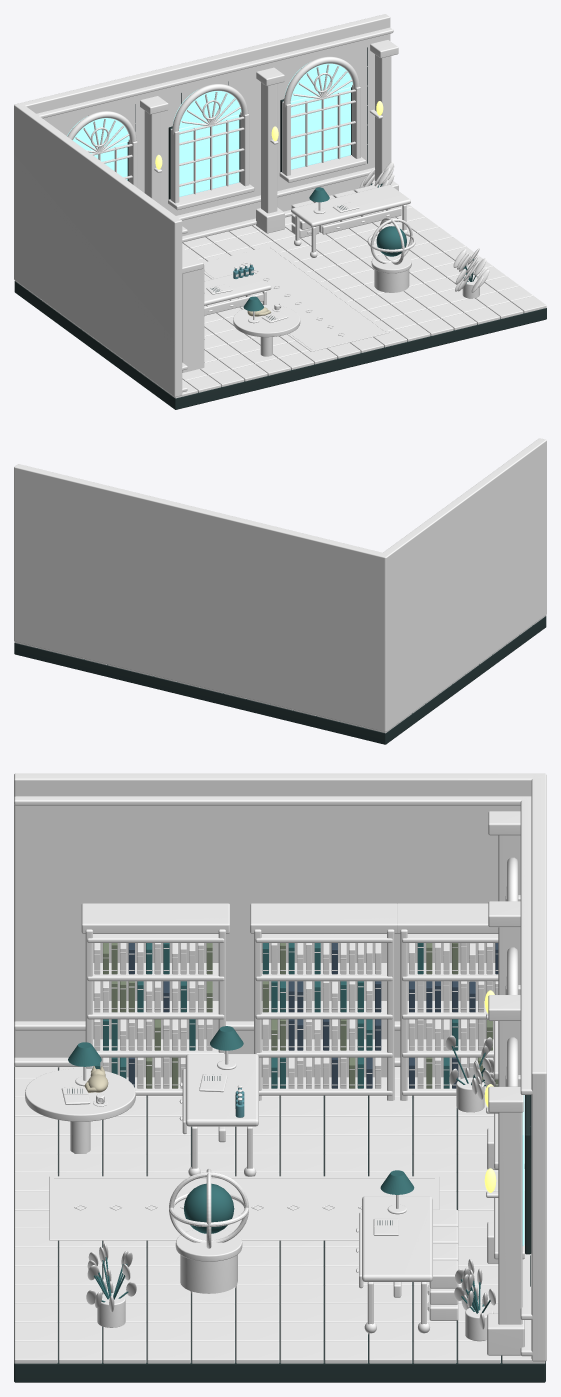
The model's file is hall.glb.
3 renders of one model, top to bottom at view 1: azimuth 30°, elevation 25°; view 2: azimuth 150°, elevation 25°; view 3: azimuth 270°, elevation 25°, orthographic. The views are drawn at different scales.
Visible parts, largest first — view 1: Static_5_Salt worn limestone, Static_6_Ivory carved stone, Static_7_Mist beyond windows, Static_16_Carpet, Static_10_Polished wood edge, Static_0_Ink, Static_3_Tile 00_04, Static_8_Aged brass, Static_4_Tile 01_10, Static_1_Tile 00_00, Static_2_Tile 00_01, Static_9_Walnut grain (+2 smaller); view 2: Static_5_Salt worn limestone, Static_0_Ink; view 3: Static_5_Salt worn limestone, Static_10_Polished wood edge, Static_6_Ivory carved stone, Static_4_Tile 01_10, Static_2_Tile 00_01, Static_1_Tile 00_00, Static_16_Carpet, Static_9_Walnut grain, Static_3_Tile 00_04, Static_0_Ink, Static_11_Enamel teal, Static_8_Aged brass (+4 smaller).
Part boxes in pixels (left/top/right/bottom): Static_5_Salt worn limestone: left=14, top=14, right=390, bottom=397; Static_6_Ivory carved stone: left=36, top=27, right=409, bottom=392; Static_7_Mist beyond windows: left=67, top=62, right=352, bottom=196; Static_16_Carpet: left=203, top=162, right=489, bottom=351; Static_10_Polished wood edge: left=182, top=185, right=410, bottom=372; Static_0_Ink: left=14, top=47, right=546, bottom=409; Static_3_Tile 00_04: left=28, top=210, right=505, bottom=386; Static_8_Aged brass: left=75, top=64, right=415, bottom=349; Static_4_Tile 01_10: left=186, top=204, right=523, bottom=375; Static_1_Tile 00_00: left=14, top=224, right=546, bottom=398; Static_2_Tile 00_01: left=122, top=207, right=519, bottom=388; Static_9_Walnut grain: left=204, top=185, right=406, bottom=356; Static_5_Salt worn limestone: left=14, top=438, right=546, bottom=731; Static_0_Ink: left=14, top=616, right=546, bottom=744; Static_5_Salt worn limestone: left=14, top=773, right=546, bottom=1361; Static_10_Polished wood edge: left=25, top=903, right=498, bottom=1333; Static_6_Ivory carved stone: left=14, top=796, right=532, bottom=1356; Static_4_Tile 01_10: left=14, top=1097, right=545, bottom=1363; Static_2_Tile 00_01: left=14, top=1067, right=498, bottom=1363; Static_1_Tile 00_00: left=14, top=1066, right=456, bottom=1363; Static_16_Carpet: left=49, top=1035, right=495, bottom=1329; Static_9_Walnut grain: left=64, top=943, right=498, bottom=1334; Static_3_Tile 00_04: left=14, top=1067, right=498, bottom=1363; Static_0_Ink: left=14, top=1067, right=545, bottom=1382; Static_11_Enamel teal: left=68, top=943, right=490, bottom=1313; Static_8_Aged brass: left=54, top=887, right=506, bottom=1310.
Bounding box in the file's own units: 16.02 × 7.73 × 12.03.
